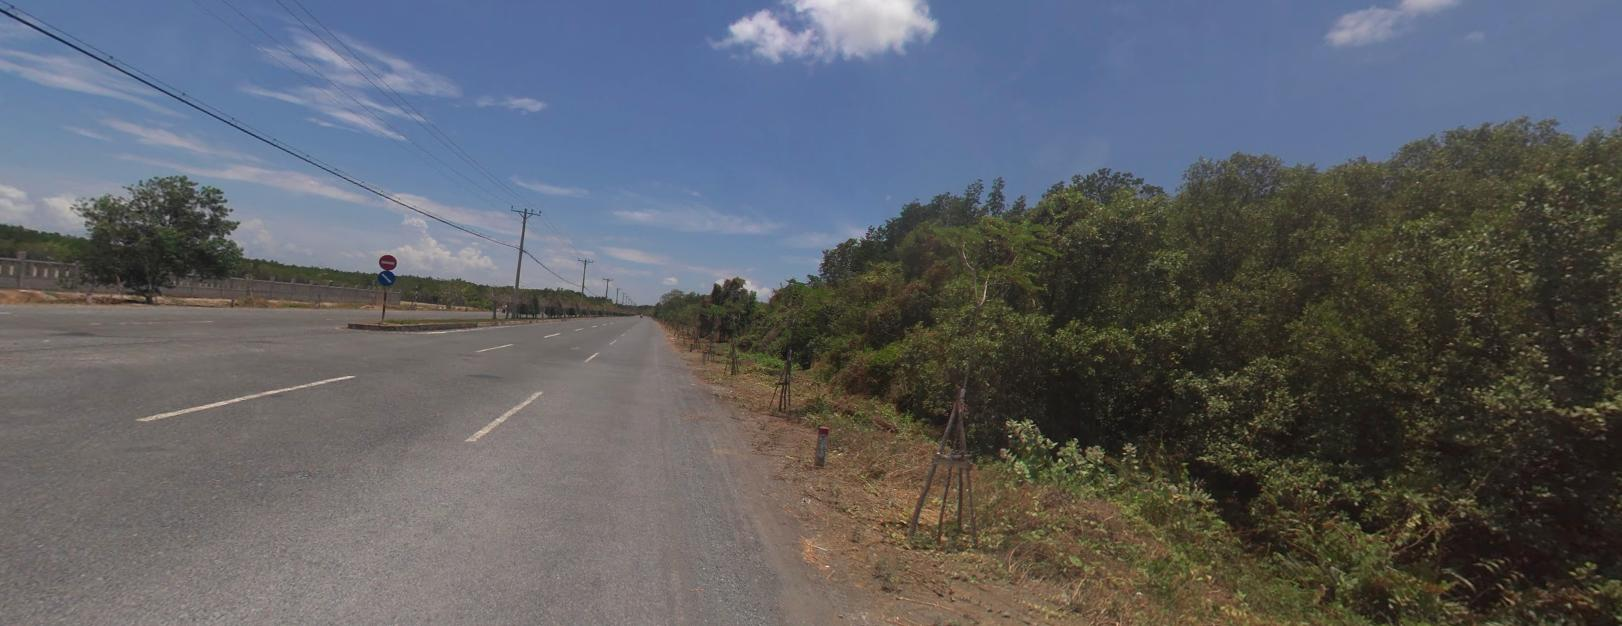Cam nguoc chieu: (379, 254, 396, 268), (379, 254, 396, 267)
Hieu lenh: (378, 269, 394, 284), (378, 269, 394, 284)
